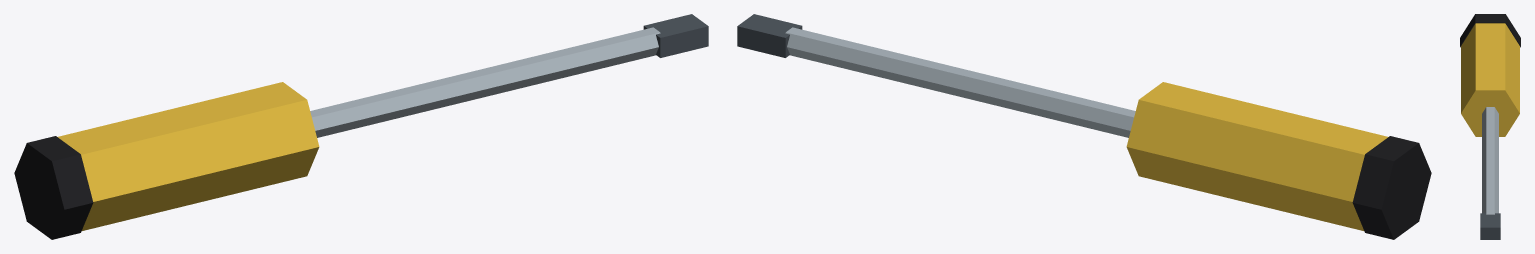
Rendered from GT_Screwdriver_01.glb.
The picture shows the model from 3 angles, left to right: view 1: azimuth 30°, elevation 25°; view 2: azimuth 150°, elevation 25°; view 3: azimuth 270°, elevation 25°; orthographic projection. The views are drawn at different scales.
Visible parts, largest first — view 1: GT_Screwdriver_01; view 2: GT_Screwdriver_01; view 3: GT_Screwdriver_01.
Boxes of the visible parts, x1,y1,x2,y2 form: GT_Screwdriver_01: (14,14,708,239); GT_Screwdriver_01: (737,14,1431,239); GT_Screwdriver_01: (1460,14,1520,239).
Size of the model in its own units: 0.274 by 0.0312 by 0.036.
1 material, 1 textured.
